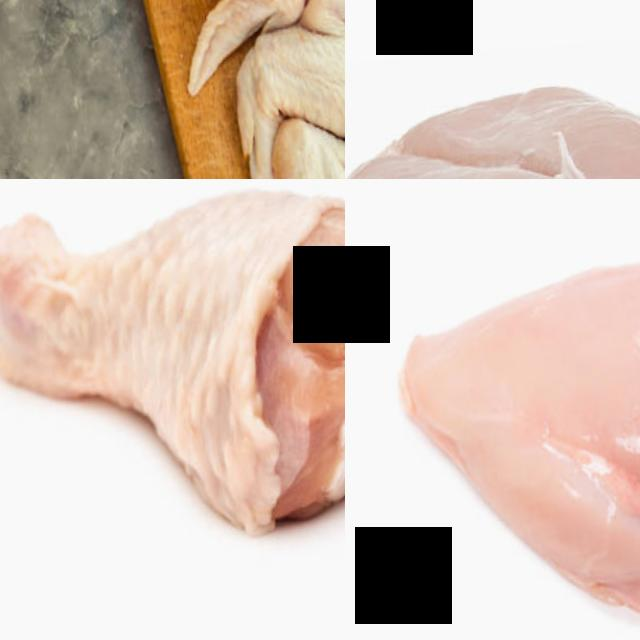chicken breast: (358, 179, 640, 640), (345, 0, 640, 179)
chicken thigh: (0, 179, 345, 587)
chicken wing: (213, 0, 345, 151)
